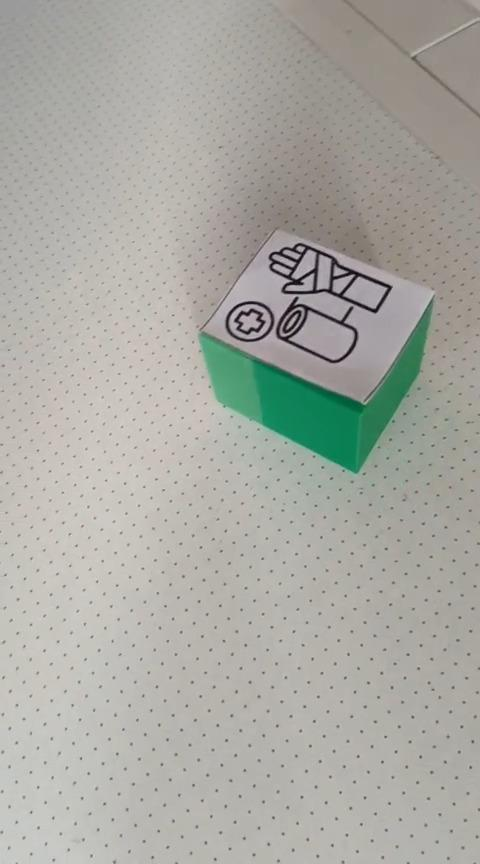Bandages: (196, 226, 435, 473)
